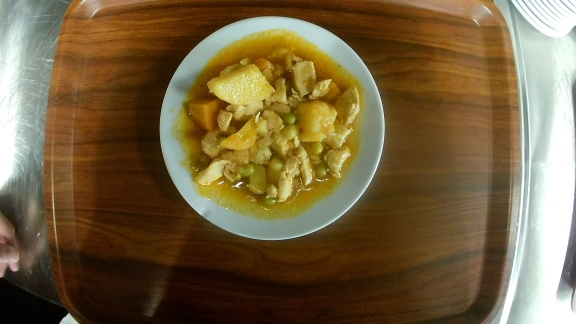bezelyelitavuk: (157, 15, 387, 241)
